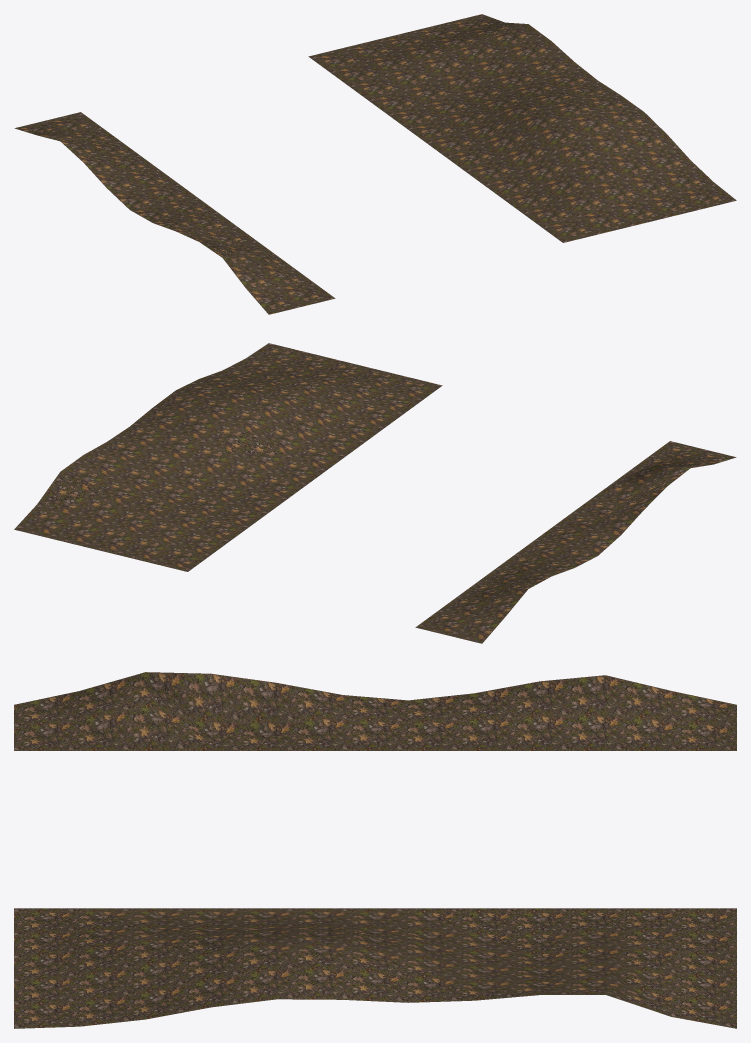
File: forest_access_landform_lod.gltf
The picture shows the model from 3 angles, top to bottom: view 1: azimuth 30°, elevation 25°; view 2: azimuth 150°, elevation 25°; view 3: azimuth 270°, elevation 25°; orthographic projection. The views are drawn at different scales.
Visible parts, largest first — view 1: forest_access_landform_lod; view 2: forest_access_landform_lod; view 3: forest_access_landform_lod.
Part boxes in pixels (x1,y1,x2,y2): forest_access_landform_lod: (14, 14, 736, 314); forest_access_landform_lod: (14, 343, 736, 643); forest_access_landform_lod: (14, 672, 736, 1028).
Size of the model in its own units: 35 by 2 by 33.
Materials: 1 (1 with a texture image).
